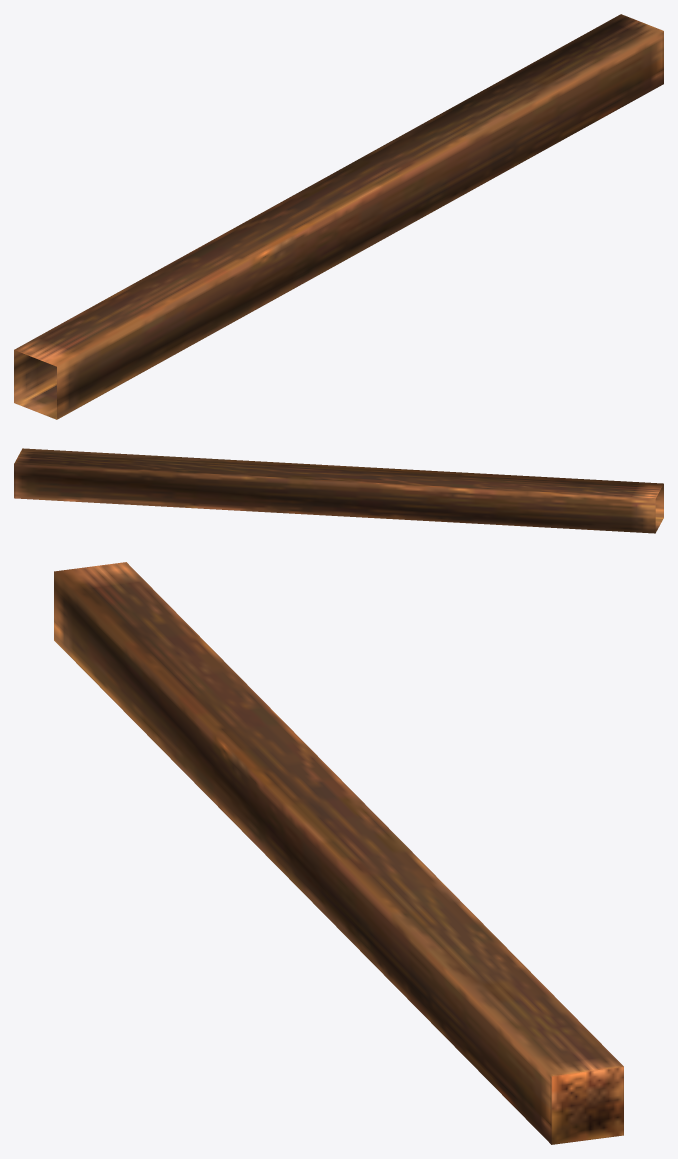
File: SWORDLIGHT20_JAILBRACE85.fbx
The picture shows the model from 3 angles, top to bottom: view 1: azimuth 30°, elevation 25°; view 2: azimuth 150°, elevation 25°; view 3: azimuth 270°, elevation 25°; orthographic projection. The views are drawn at different scales.
Parts seen in each view (by area): view 1: SWORDLIGHT20_JAILBRACE85; view 2: SWORDLIGHT20_JAILBRACE85; view 3: SWORDLIGHT20_JAILBRACE85.
Boxes of the visible parts, <box> form: SWORDLIGHT20_JAILBRACE85: <box>14,14,663,419</box>; SWORDLIGHT20_JAILBRACE85: <box>14,448,663,533</box>; SWORDLIGHT20_JAILBRACE85: <box>54,562,623,1144</box>.
Bounding box in the file's own units: 64130 × 4000 × 30059.
1 material, 1 textured.
